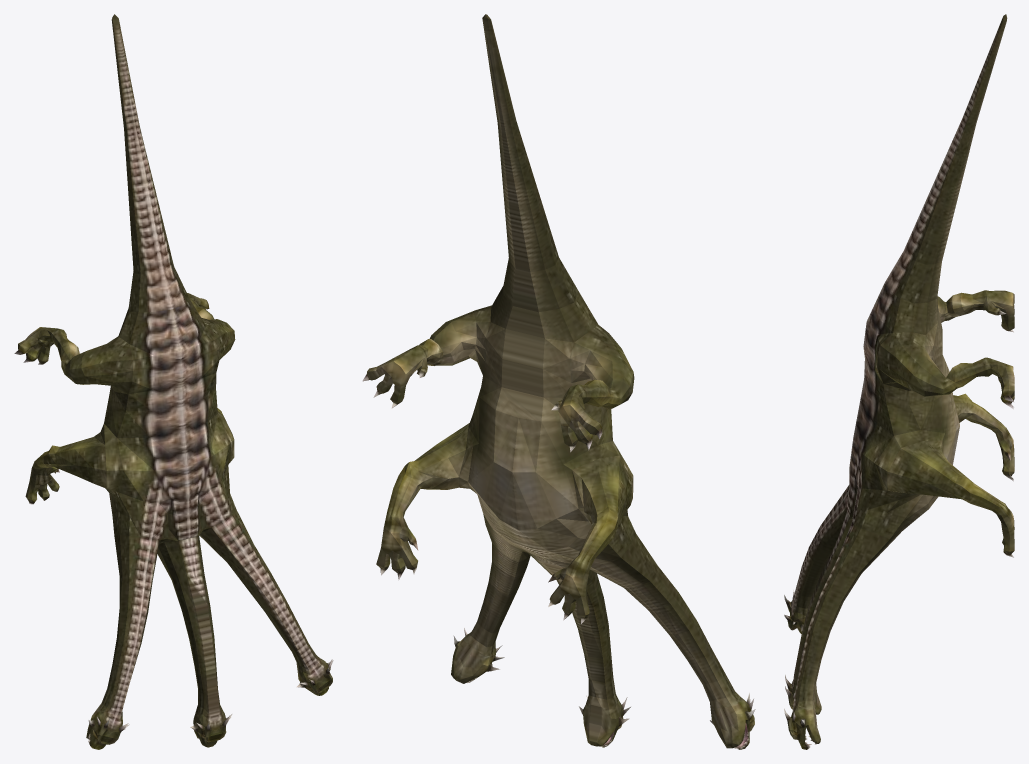
The model's file is hydra.glb.
3 renders of one model, left to right at view 1: azimuth 30°, elevation 25°; view 2: azimuth 150°, elevation 25°; view 3: azimuth 270°, elevation 25°, orthographic. The views are drawn at different scales.
Parts seen in each view (by area): view 1: hydra.obj; view 2: hydra.obj; view 3: hydra.obj.
Boxes of the visible parts, <box> form: hydra.obj: <box>14,14,333,749</box>; hydra.obj: <box>362,14,755,749</box>; hydra.obj: <box>784,14,1014,749</box>.
Bounding box in the file's own units: 0.3867 × 0.9996 × 0.2965.
1 material, 1 textured.
